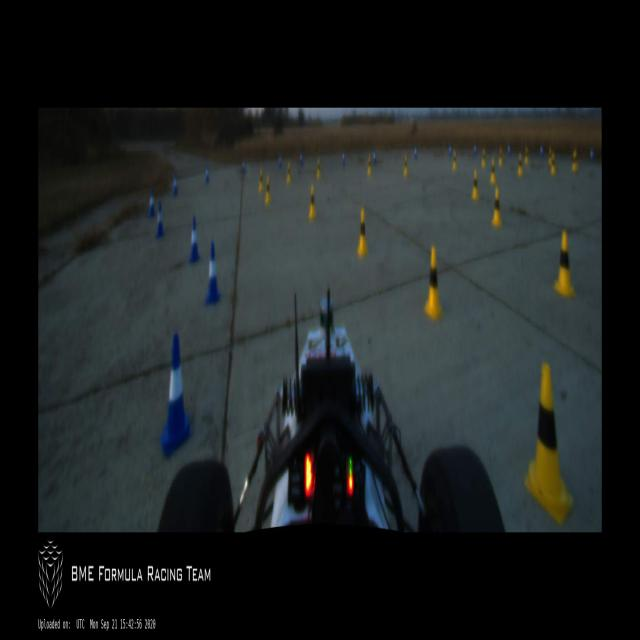blue_cone: (160, 332, 191, 458), (205, 242, 220, 304), (189, 216, 200, 262), (155, 201, 164, 237), (148, 188, 155, 217), (173, 172, 178, 195), (205, 164, 209, 183), (590, 148, 594, 162), (242, 158, 245, 174), (414, 147, 417, 160), (279, 156, 282, 168), (342, 152, 345, 164), (540, 144, 543, 156), (373, 152, 376, 162), (300, 154, 302, 166), (449, 146, 451, 156), (474, 144, 476, 154), (508, 144, 510, 154)
yellow_cone: (524, 362, 574, 528), (552, 230, 576, 298), (423, 244, 442, 318), (355, 208, 368, 255), (492, 189, 502, 226), (308, 186, 316, 220), (471, 169, 479, 202), (489, 159, 497, 183), (265, 176, 271, 205), (571, 150, 578, 172), (517, 152, 523, 176), (550, 152, 556, 174), (286, 162, 291, 186), (259, 169, 264, 191), (403, 155, 408, 177), (367, 155, 372, 177), (452, 149, 457, 169), (482, 146, 486, 169), (499, 145, 503, 166), (317, 159, 321, 179), (525, 146, 529, 166), (548, 146, 552, 166)
